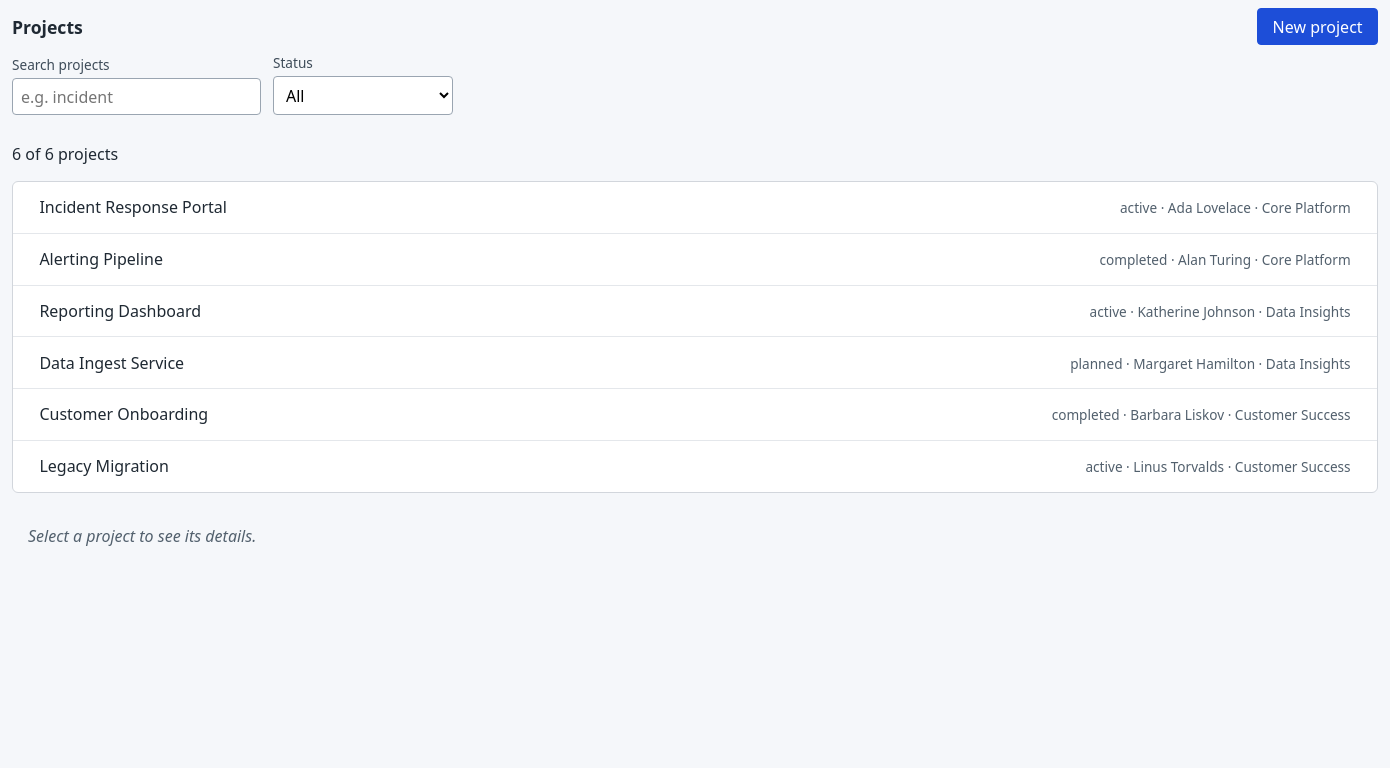
it: ProjectsPage — edit (PRJ-EDIT) › edits name and status offering only valid transitions
Click the button "Data Ingest Service": x=112, y=363 [25,345,1365,380]
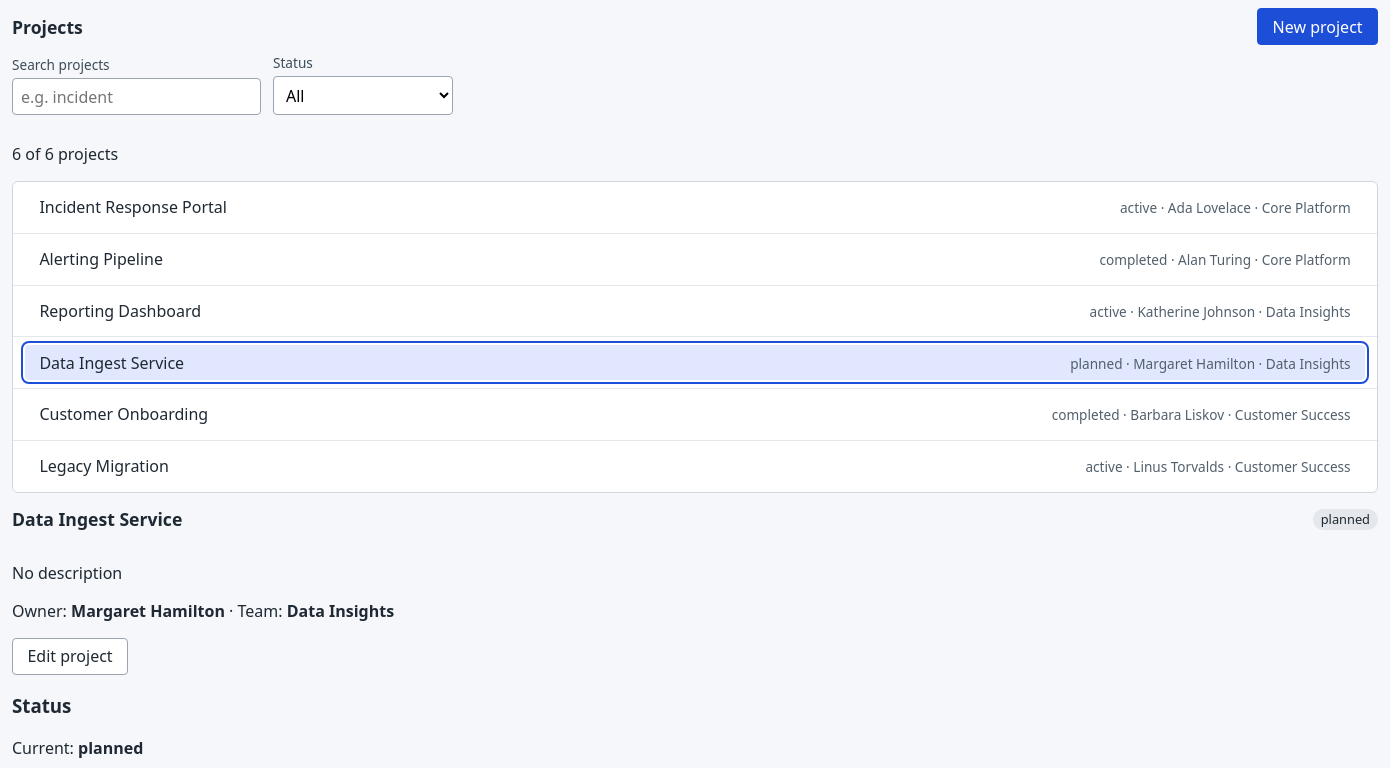
Click the button "Edit project": x=70, y=656 [12,638,128,675]
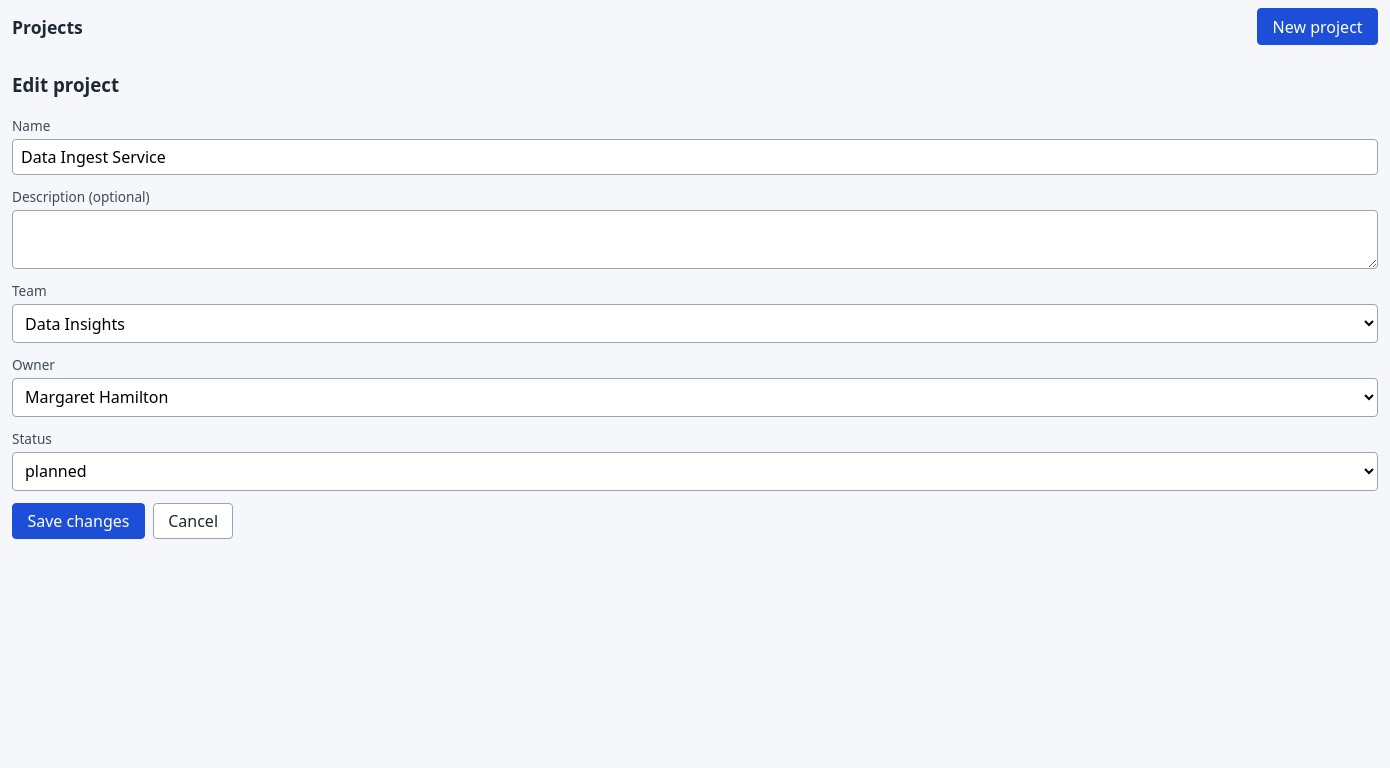
Replace the text in the field labelled "Name" with "Data Ingest Service v2": x=695, y=157 [12,139,1378,175]
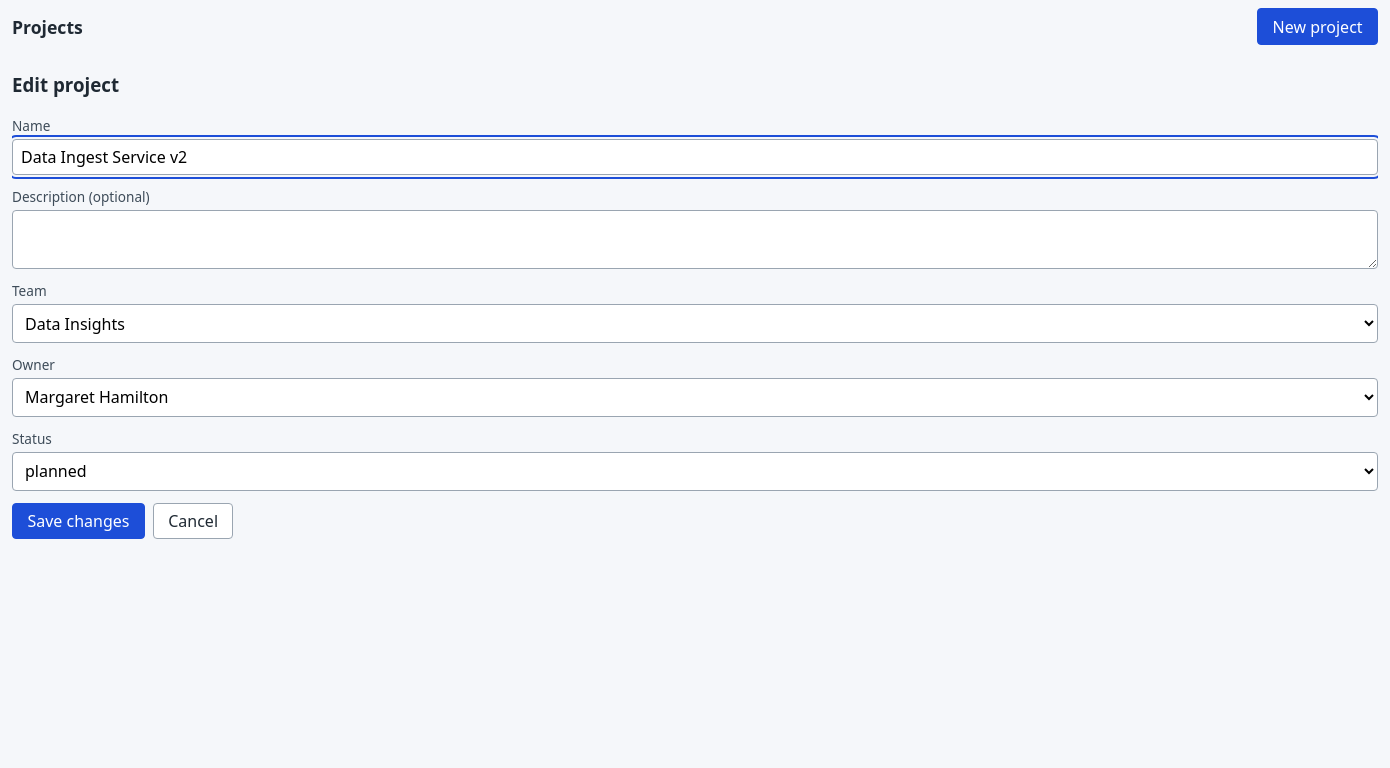
Select "active" in the dropdown labelled "Status": x=695, y=471 [12,452,1378,491]
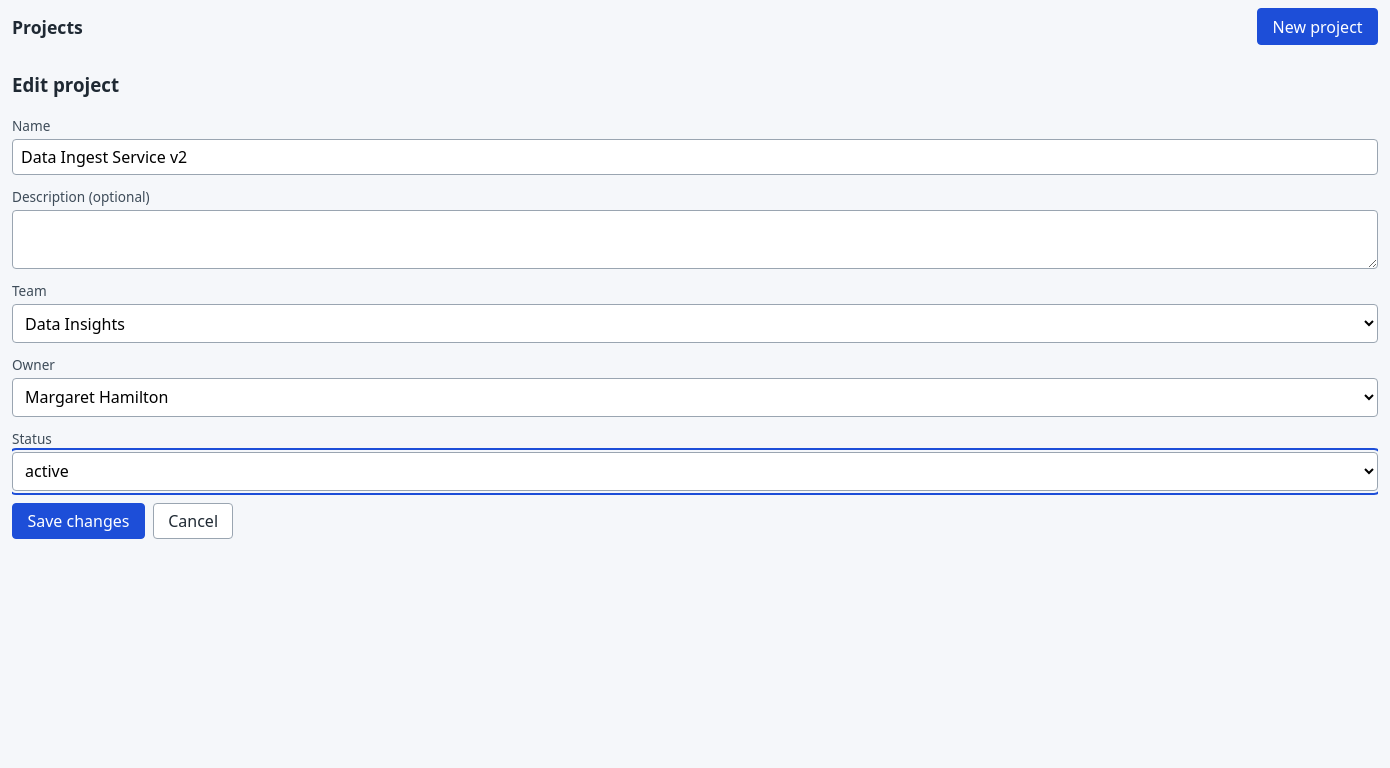
Click the button "Save changes": x=78, y=521 [12,502,145,539]
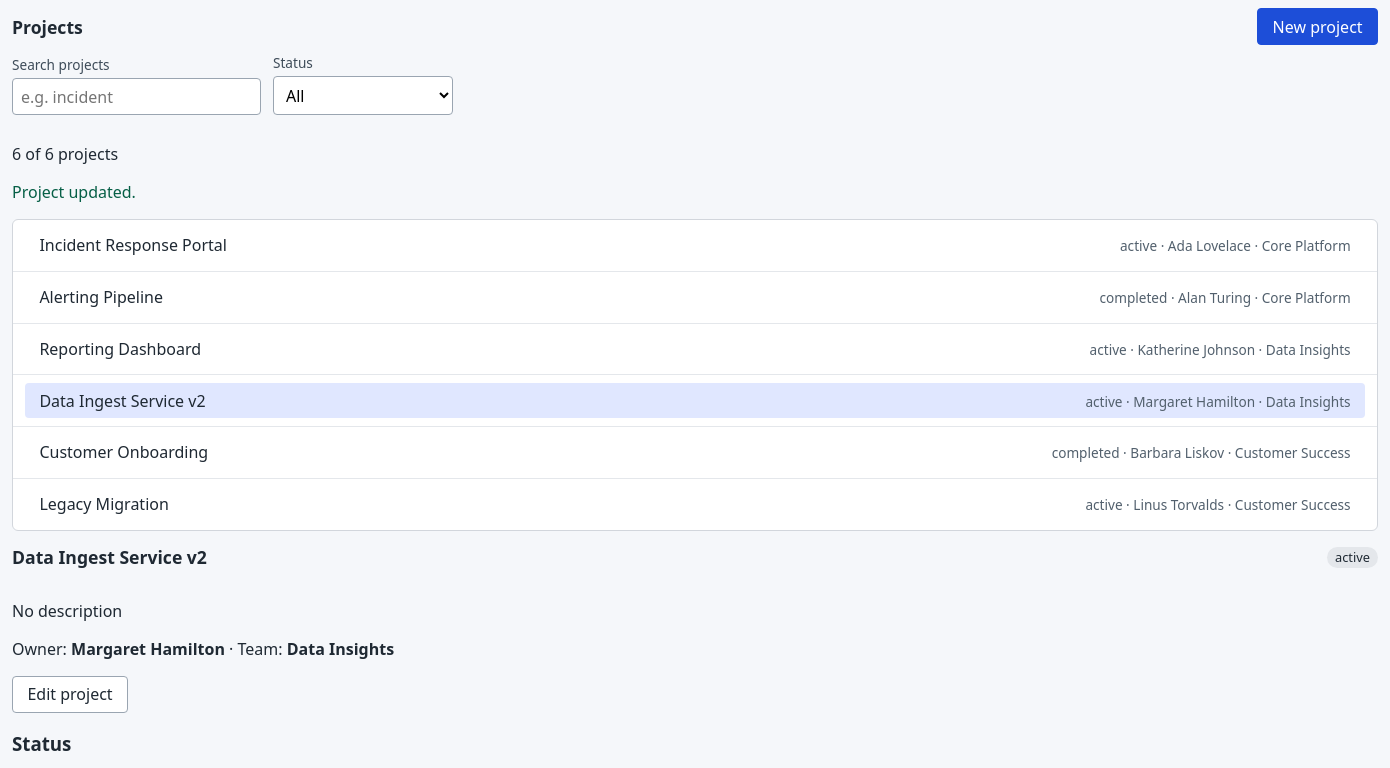
Check: the text "Project updated." is shown, box [12,181,136,203]
Check: the text "Data Ingest Service v2" is shown, box [39,390,206,412]
Check: the text "active" is shown, box [1327,547,1378,568]
